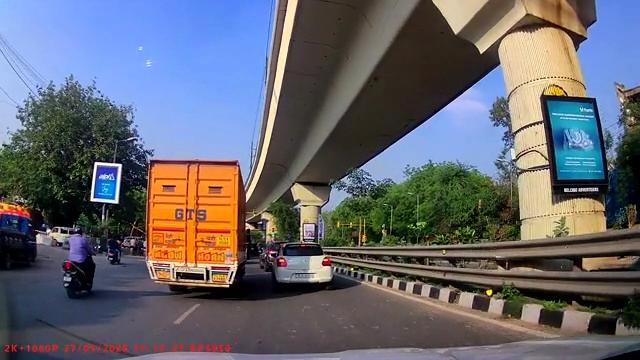motorcycle_with_helmet: (62, 225, 98, 300)
